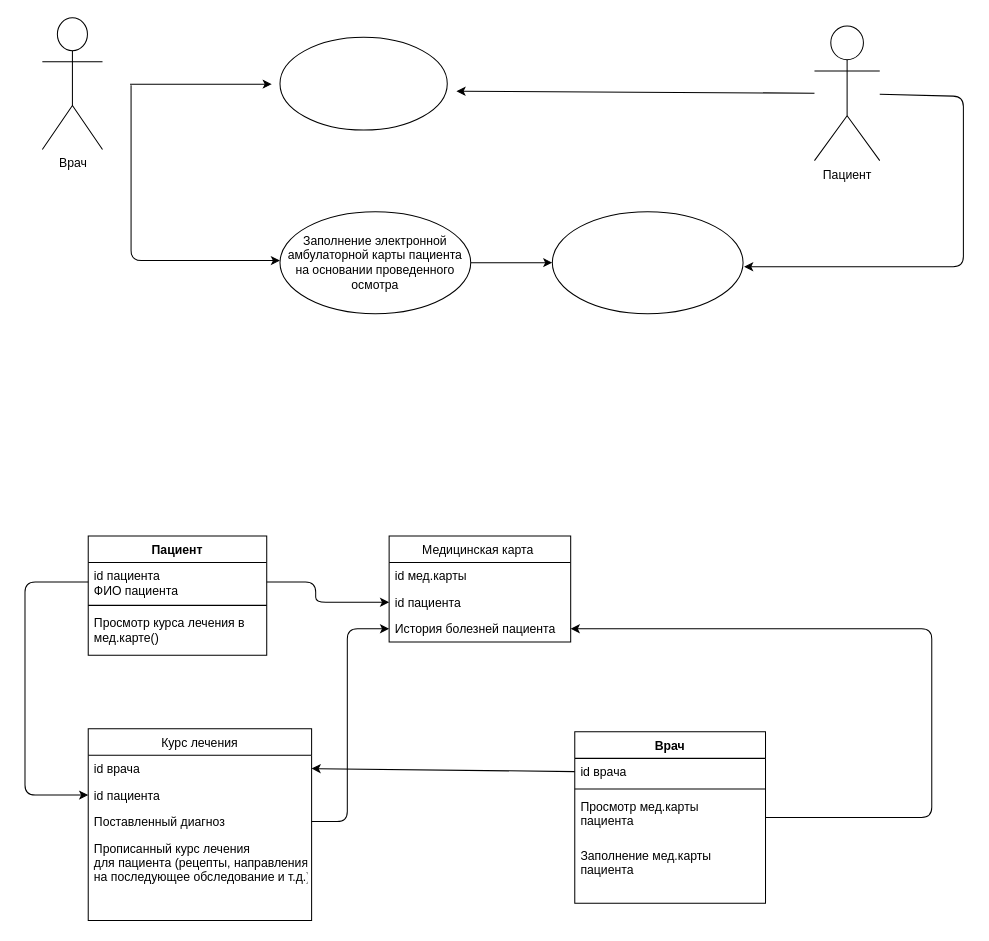
Image size: 989x941. Some labels were removed from this diagram. Here are the shapes that lost their labels. From the top down, the centre of each, then its label:
At (x=363, y=83): "Просмотр электронной амбулаторной карты пациента".
At (x=647, y=262): "Прописанный курс лечения".
